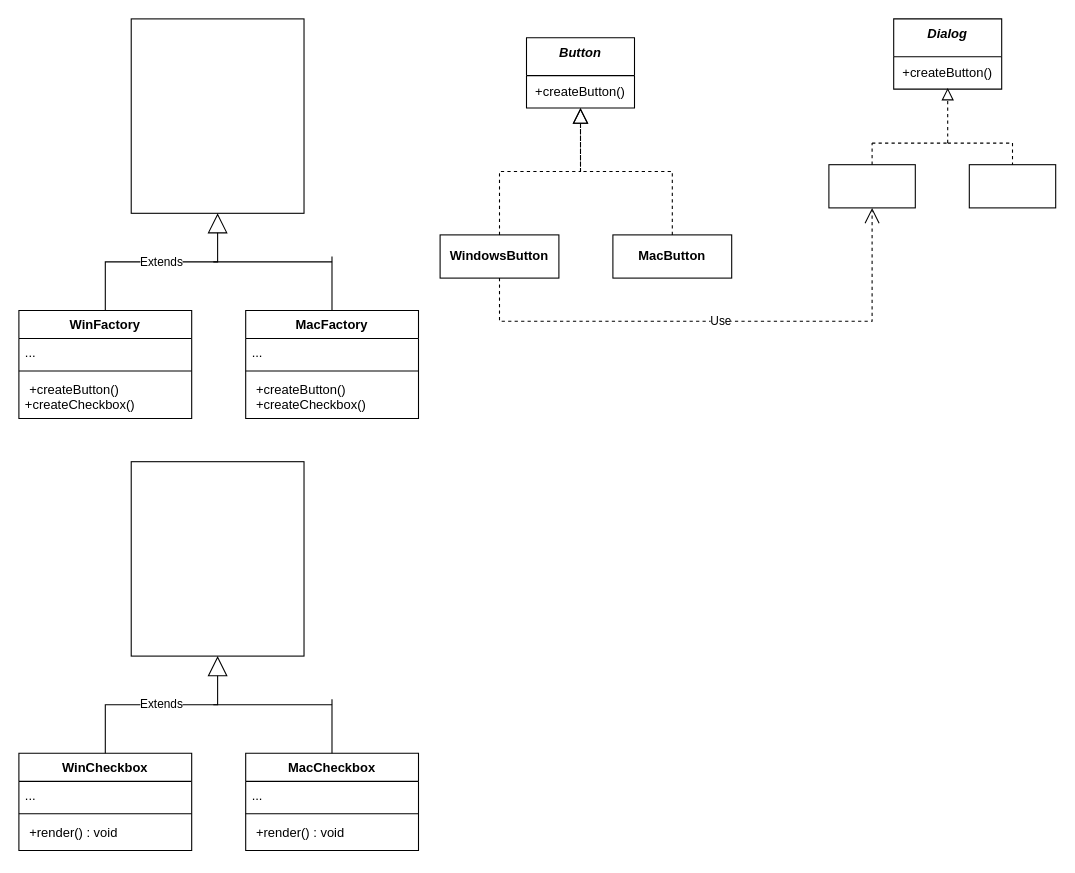
Some shapes in this 1075 by 873 pixel diagram are drawn without their labels. The centre of each missing label's shape, as x and y in pixels:
"Checkbox ... + render() : void" belongs at [217,558].
"GUIFactory ... +createButton() +createCheckbox()" belongs at [217,115].
"Mac dialog" belongs at [1012,186].
"Windows dialog" belongs at [871,186].
